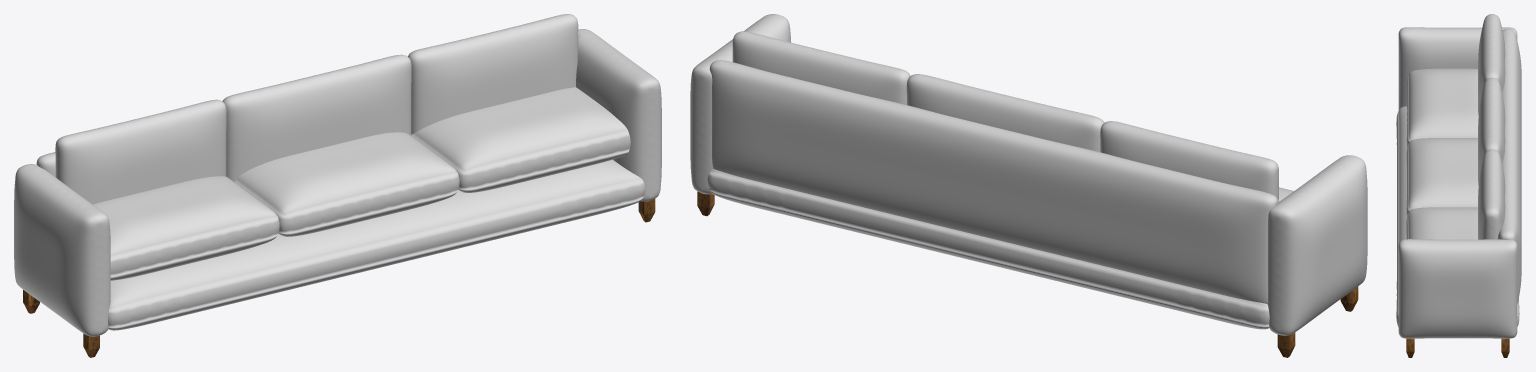
File: canapea1.glb
3 renders of one model, left to right at view 1: azimuth 30°, elevation 25°; view 2: azimuth 150°, elevation 25°; view 3: azimuth 270°, elevation 25°, orthographic. The views are drawn at different scales.
Visible parts, largest first — view 1: Cube.003, Cube.001, Cube.008, Cube.002, Cube.009, Cube.005, Cube, Cube.007, Cube.006, Cube.010; view 2: Cube.004, Cube.003, Cube.005, Cube.008, Cube.007, Cube.009, Cube.006, Cube.010; view 3: Cube.006, Cube.001, Cube, Cube.004, Cube.005, Cube.002, Cube.009, Cube.008, Cube.007, Cube.003, Cube.010.
Part boxes in pixels (bbox=[...]): Cube.003: bbox=[108, 159, 645, 330]; Cube.001: bbox=[234, 132, 459, 236]; Cube.008: bbox=[222, 54, 411, 181]; Cube.002: bbox=[411, 87, 630, 192]; Cube.009: bbox=[408, 14, 578, 134]; Cube.005: bbox=[14, 164, 110, 336]; Cube: bbox=[93, 176, 279, 280]; Cube.007: bbox=[55, 99, 226, 204]; Cube.006: bbox=[576, 29, 661, 201]; Cube.010: bbox=[23, 199, 655, 357]; Cube.004: bbox=[709, 60, 1278, 304]; Cube.003: bbox=[707, 169, 1269, 329]; Cube.005: bbox=[1267, 155, 1367, 335]; Cube.008: bbox=[906, 74, 1104, 152]; Cube.007: bbox=[1100, 121, 1278, 202]; Cube.009: bbox=[732, 31, 910, 104]; Cube.006: bbox=[690, 14, 790, 194]; Cube.010: bbox=[697, 191, 1358, 357]; Cube.006: bbox=[1398, 239, 1517, 338]; Cube.001: bbox=[1406, 138, 1478, 215]; Cube: bbox=[1406, 68, 1478, 146]; Cube.004: bbox=[1497, 29, 1521, 303]; Cube.005: bbox=[1398, 27, 1517, 109]; Cube.002: bbox=[1406, 207, 1477, 239]; Cube.009: bbox=[1478, 149, 1505, 239]; Cube.008: bbox=[1478, 78, 1505, 184]; Cube.007: bbox=[1478, 14, 1505, 114]; Cube.003: bbox=[1396, 106, 1519, 326]; Cube.010: bbox=[1406, 338, 1509, 357].
Bounding box in the file's own units: 7.89 × 2.23 × 1.83.
2 materials, 1 textured.
